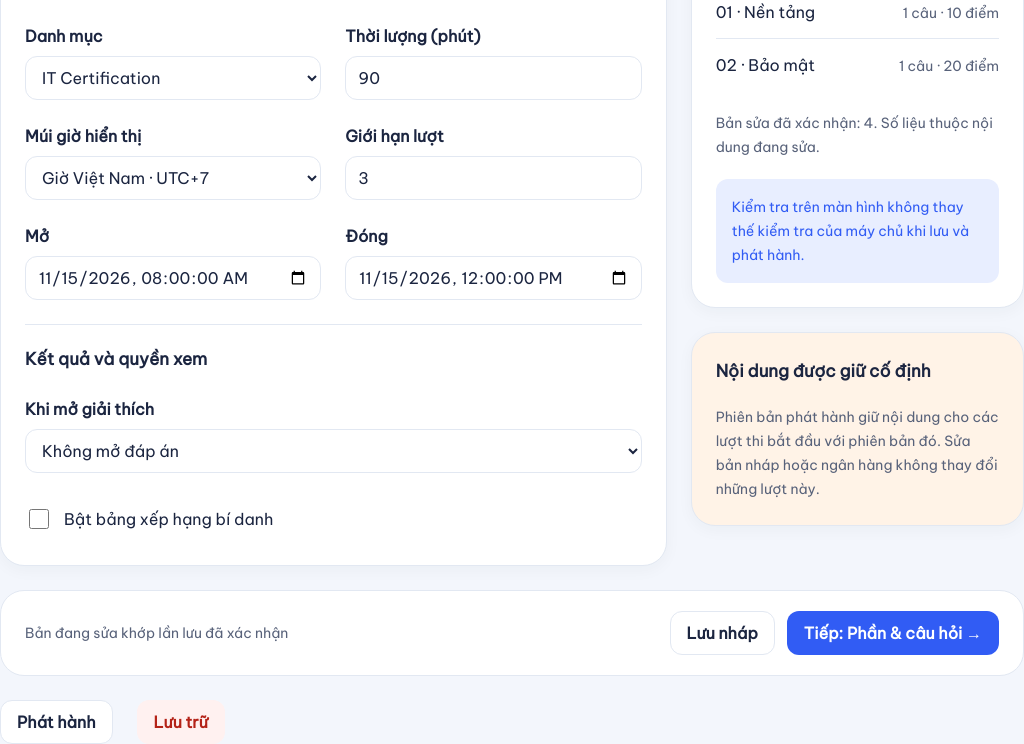
Test: describes a lost publication acknowledgement as unknown rather than a definitive failure
(page scrolled)
Click the button "Phát hành". click: {"x": 56, "y": 722}
box: [0,700,113,743]
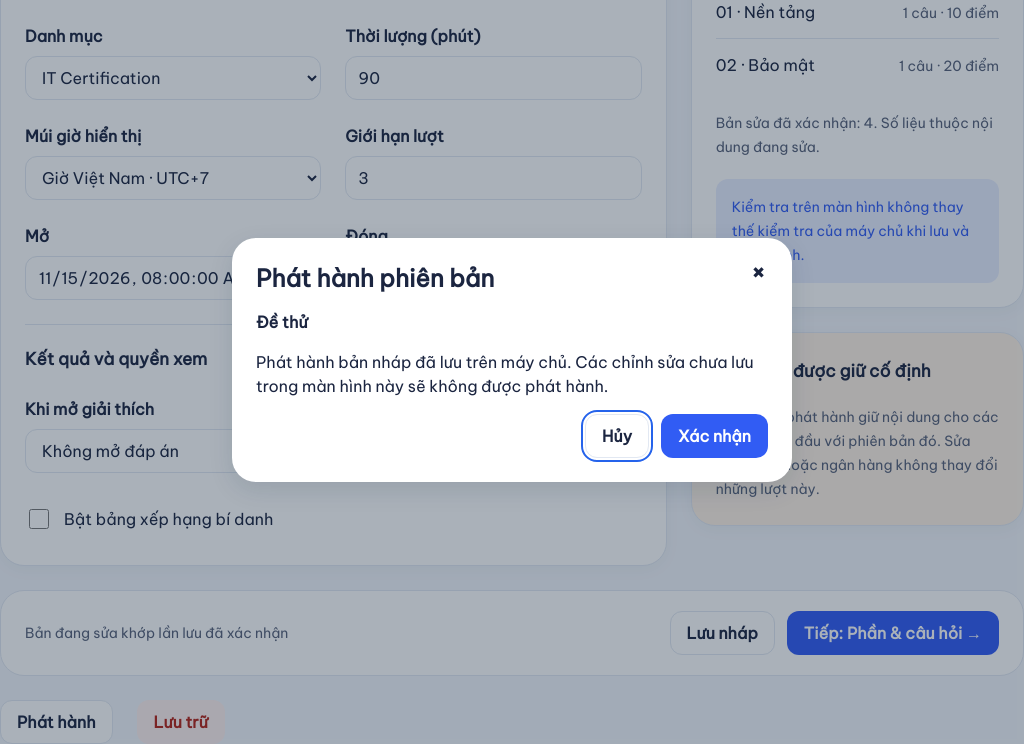
Click the button "Xác nhận". click: {"x": 715, "y": 436}
box: [661,414,768,458]
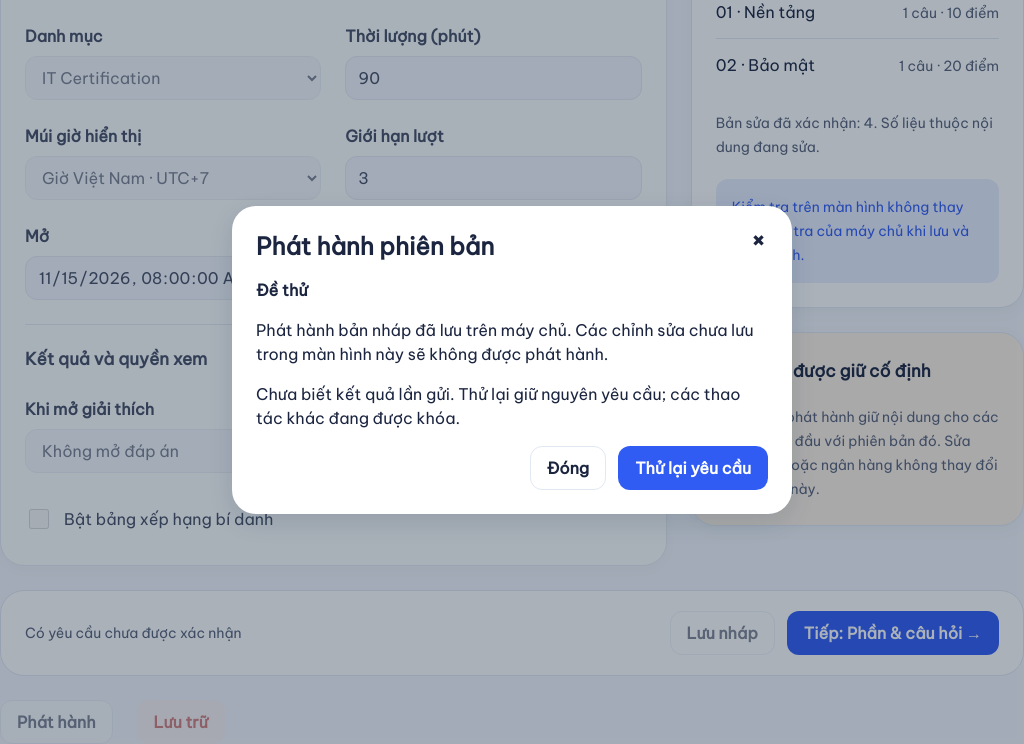
Check: the text "Chưa biết kết quả lần gửi" is shown, box [256,384,741,428]
